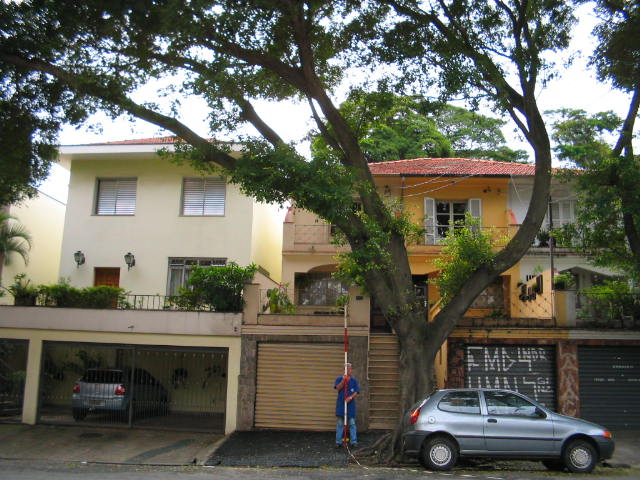crown: (3, 2, 621, 221)
stem: (380, 343, 450, 459)
stick: (337, 305, 352, 449)
tree: (2, 1, 622, 461)
